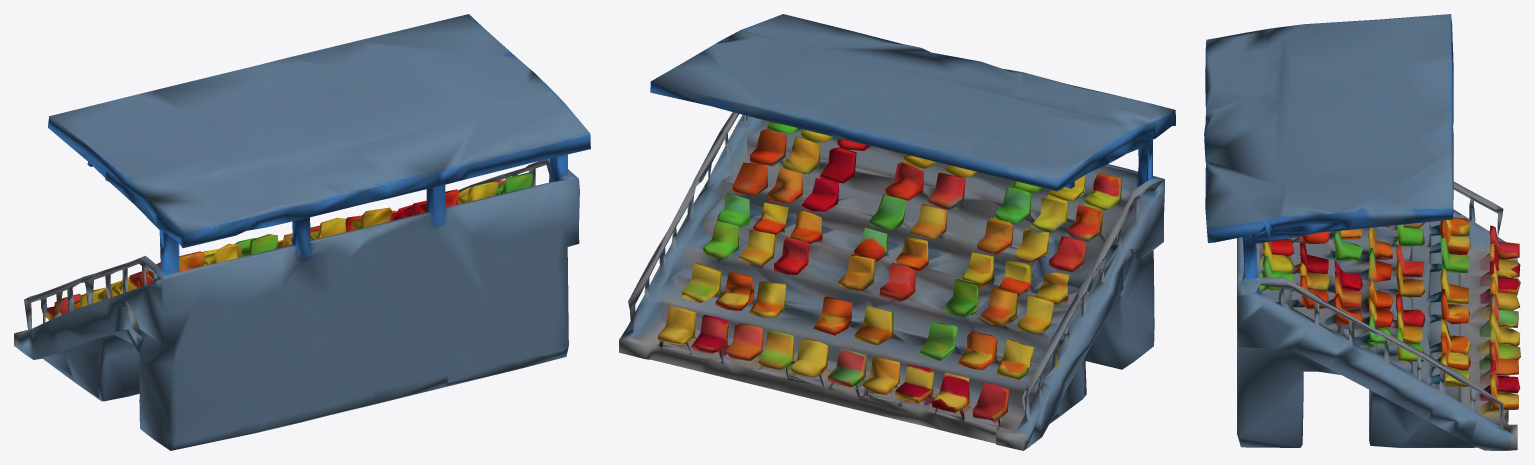
The model's file is grandstand.glb.
The picture shows the model from 3 angles, left to right: view 1: azimuth 30°, elevation 25°; view 2: azimuth 150°, elevation 25°; view 3: azimuth 270°, elevation 25°; orthographic projection. The views are drawn at different scales.
Visible parts, largest first — view 1: node_633fd0e1-dd51-4b60-a0a3-dd209a25cfc4; view 2: node_633fd0e1-dd51-4b60-a0a3-dd209a25cfc4; view 3: node_633fd0e1-dd51-4b60-a0a3-dd209a25cfc4.
Boxes of the visible parts, x1=… form: node_633fd0e1-dd51-4b60-a0a3-dd209a25cfc4: x1=14, y1=14, x2=590, y2=450; node_633fd0e1-dd51-4b60-a0a3-dd209a25cfc4: x1=619, y1=14, x2=1175, y2=450; node_633fd0e1-dd51-4b60-a0a3-dd209a25cfc4: x1=1204, y1=14, x2=1520, y2=450.
Size of the model in its own units: 0.9979 by 0.59 by 0.6859.
1 material, 1 textured.
